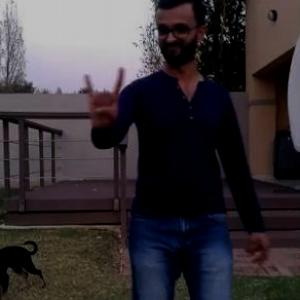takeoff-hand: (73, 59, 127, 134)
